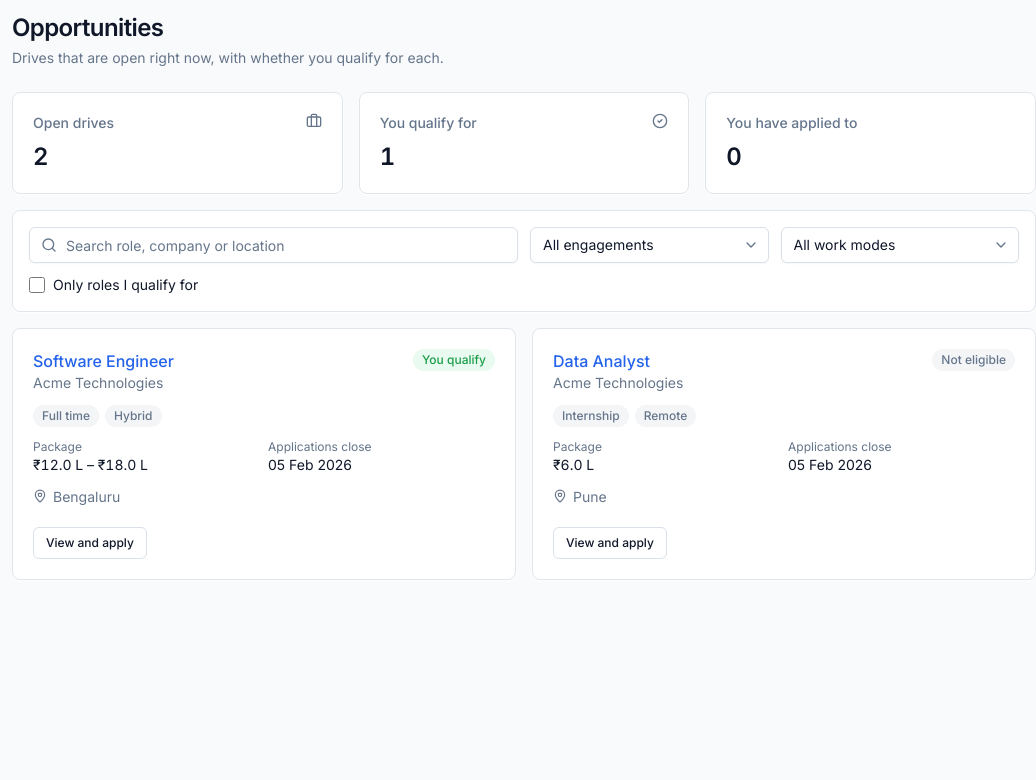
Scenario: Student jobs page › filters by engagement
Expected: the link "Software Engineer" is shown, [33,349,174,373]
Select "Internship" in the dropdown named "Filter by engagement". click: (649, 245)
box: [530,227,768,263]
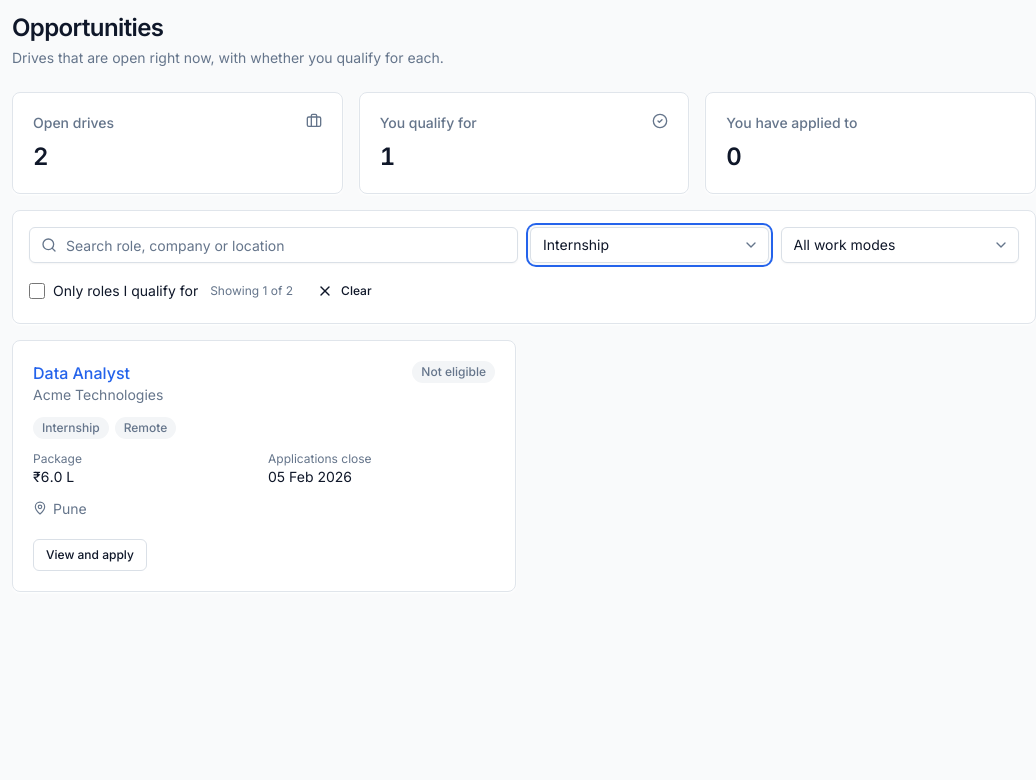
Expected: the link "Data Analyst" is shown, [33,363,130,383]
Expected: the link "Software Engineer" is gone
